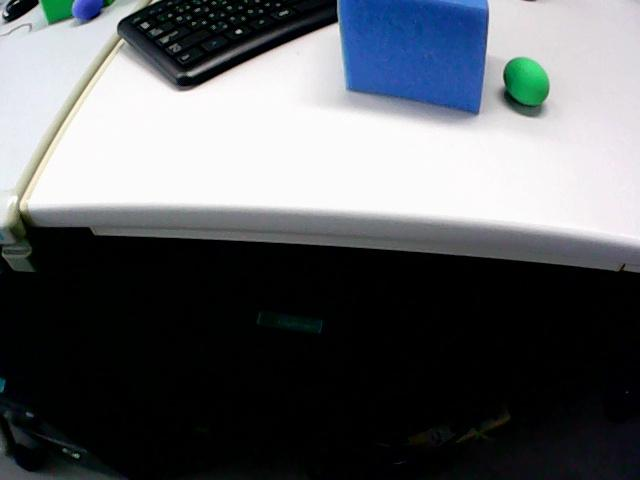blue_block: (338, 0, 487, 112), (0, 378, 5, 392)
